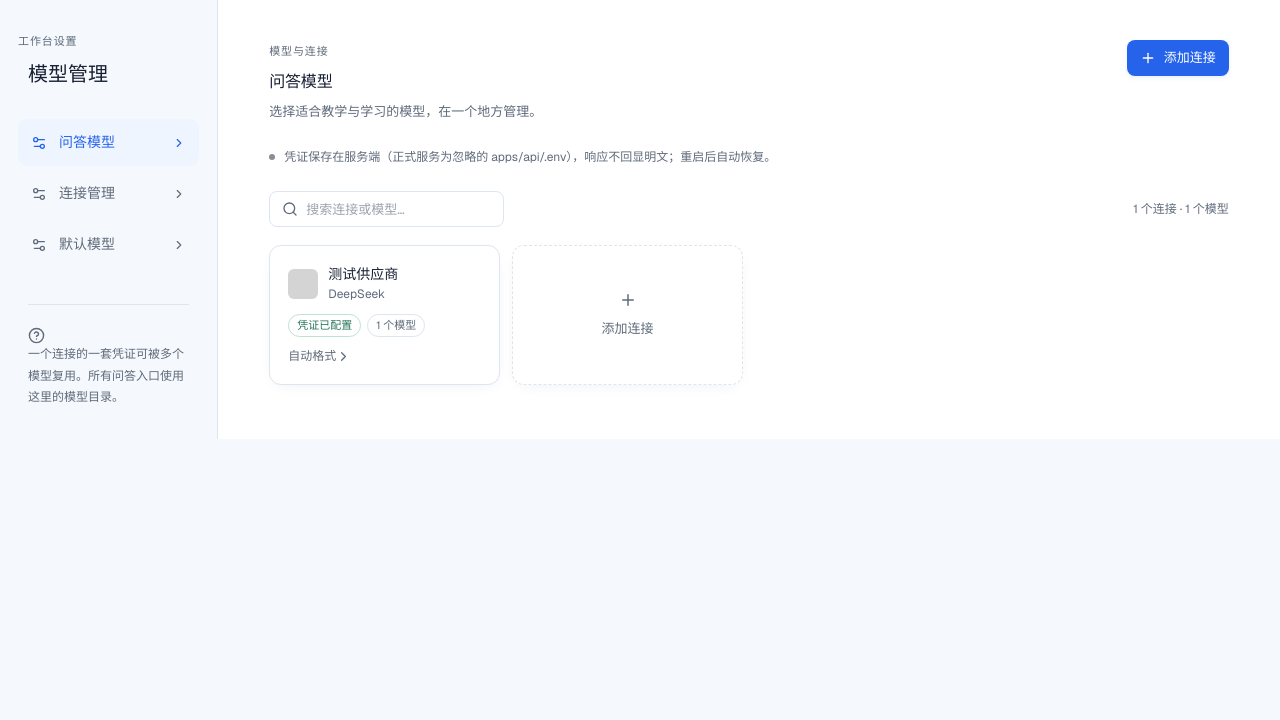
Test: 模型管理 › 供应商以卡片展示，打开详情才显示模型
expect the text "凭证已配置" is shown: met, box [288, 314, 361, 337]
expect the text "测试模型" is not shown: met
What coordinates should you click on to do the following:
click the button with aria-label "打开 测试供应商 的详情"
I would click on:
 (385, 315)
Its box is [269, 245, 500, 385].
(page scrolled)
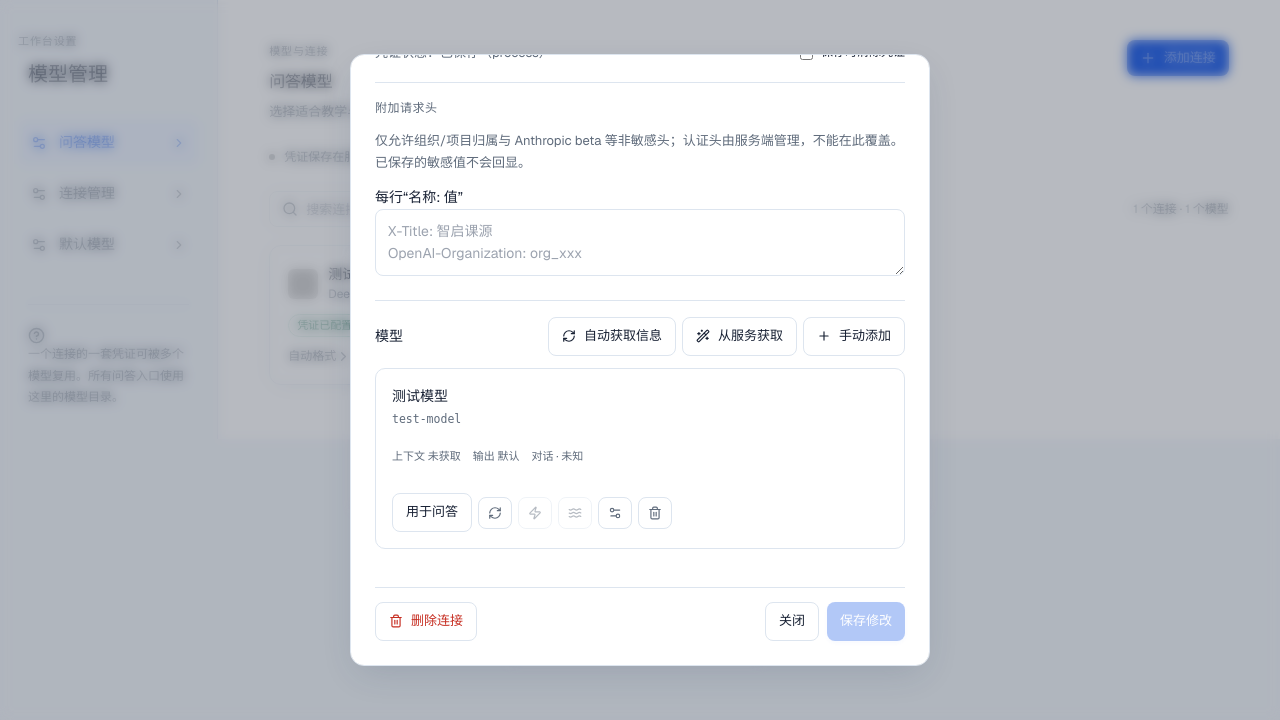
expect the text "测试模型" is shown: met, box [392, 387, 448, 405]
expect the text "test-model" is shown: met, box [392, 412, 461, 426]
expect the button named "连接测试" is shown: met, box [518, 497, 552, 529]
